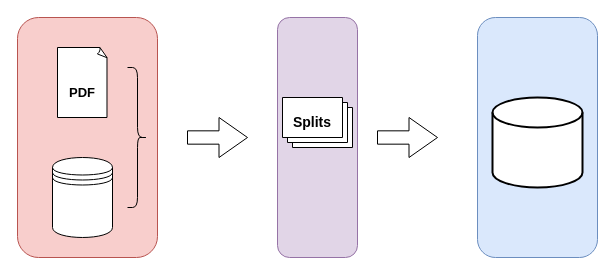
Some shapes in this 615 by 275 pixel diagram are drawn without their labels. The shapes that lost their labels are listed below. From the top down, each one's centre as x and y in pixels, then its label:
At pixel 537 142: "Vector Store".
At pixel 82 197: "Data Store".
